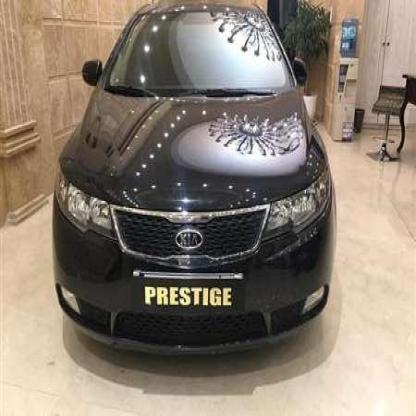Car: (52, 0, 336, 372)
